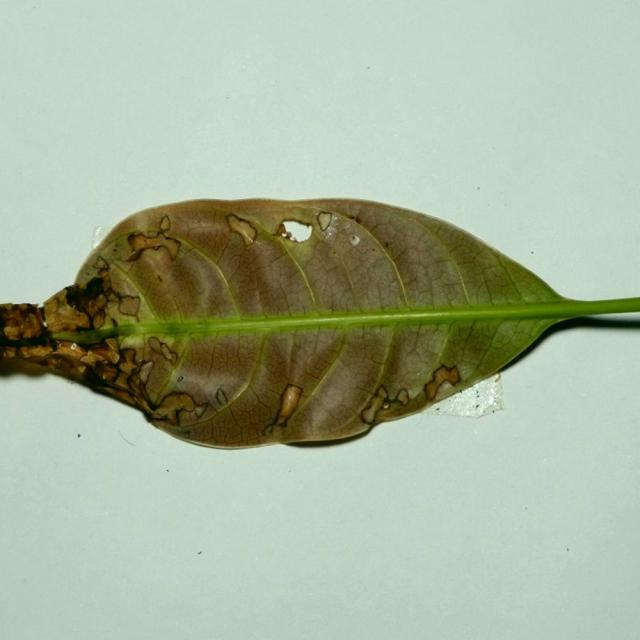Anthracnose: (40, 286, 97, 334), (361, 383, 410, 425), (263, 383, 304, 433), (125, 358, 160, 413), (150, 391, 204, 424), (123, 229, 177, 261), (51, 340, 101, 369), (423, 365, 462, 402), (271, 220, 316, 250), (109, 361, 146, 395), (107, 267, 139, 300), (226, 214, 258, 245), (146, 336, 178, 367), (13, 343, 55, 362), (114, 294, 142, 316), (116, 353, 139, 378), (97, 267, 116, 296), (2, 322, 30, 341), (21, 312, 41, 337), (43, 298, 61, 322), (2, 344, 22, 361), (317, 212, 333, 233), (120, 249, 143, 263), (322, 223, 338, 241), (446, 366, 460, 384), (93, 256, 110, 270), (376, 385, 389, 403), (216, 389, 228, 405), (159, 216, 170, 232), (349, 235, 359, 245), (391, 279, 398, 287), (493, 374, 500, 382), (157, 275, 163, 283), (177, 376, 183, 382), (369, 248, 375, 253), (77, 433, 81, 438), (436, 407, 440, 411), (491, 410, 495, 414), (530, 251, 534, 254)
Mango: (0, 198, 639, 454)
